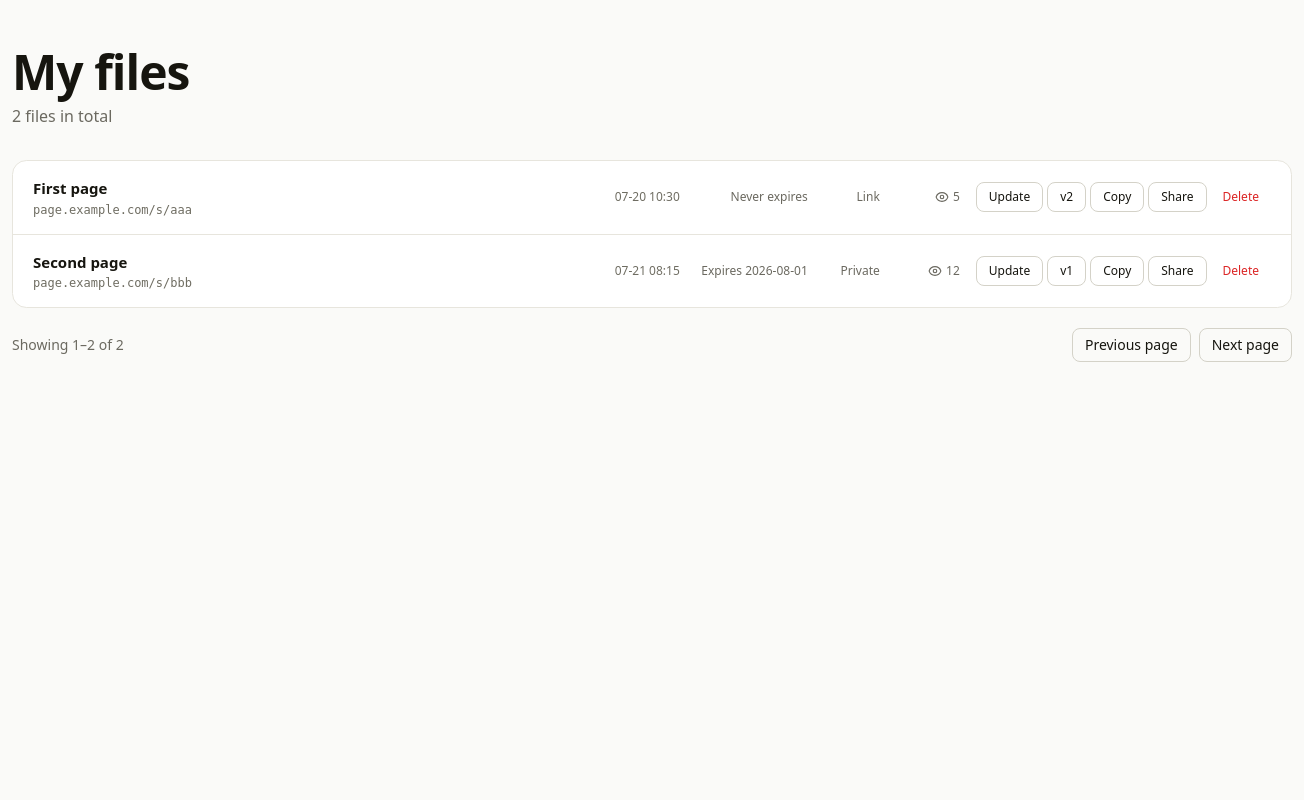
Test case: FilesPage › pin selector PATCHes shared_version and reflects the refetched server state
Expected: the text "First page" is shown, [33,178,107,198]
Click the button named "Version history: First page": (1067, 197) [1047,182,1086,212]
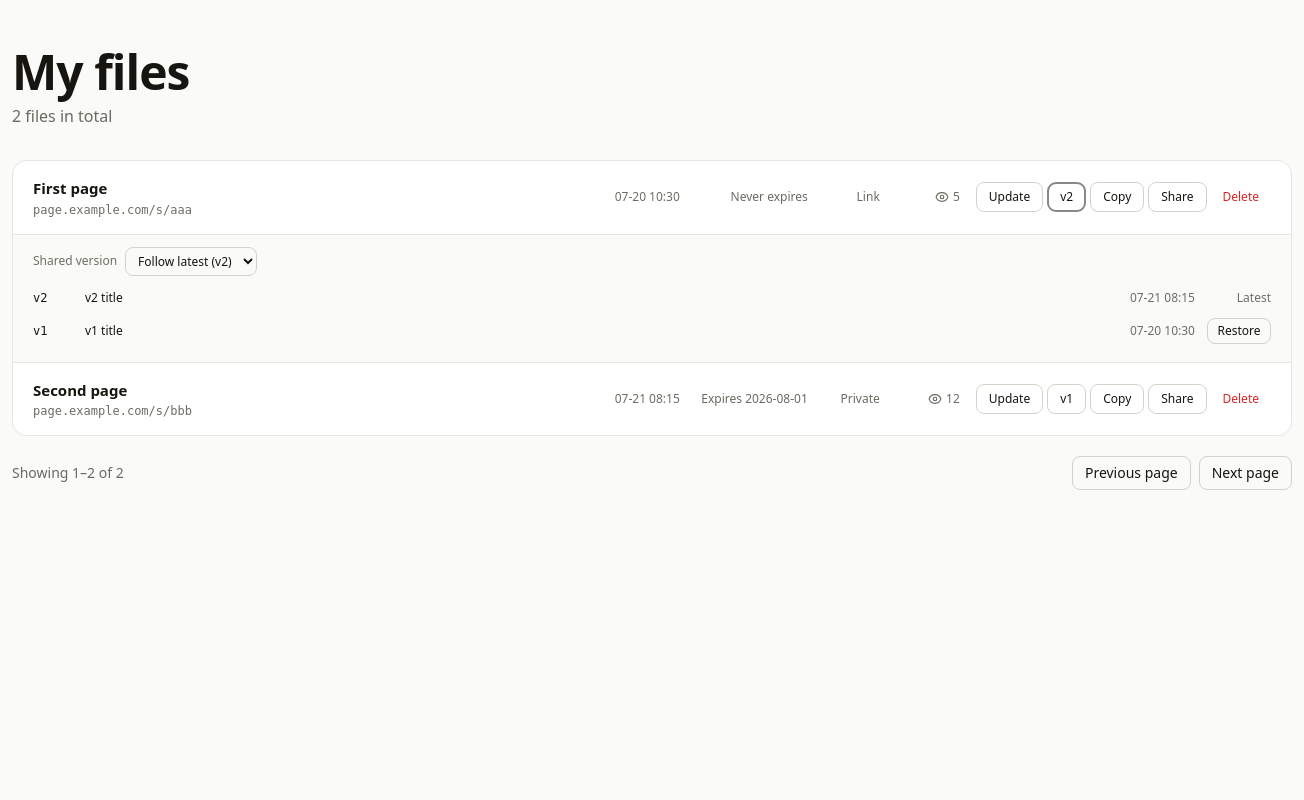
Now the text "v1 title" is shown, box [85,322,123,338]
Select "Pin to v1" in the dropdown named "Shared version": (191, 261) [125,246,257,276]
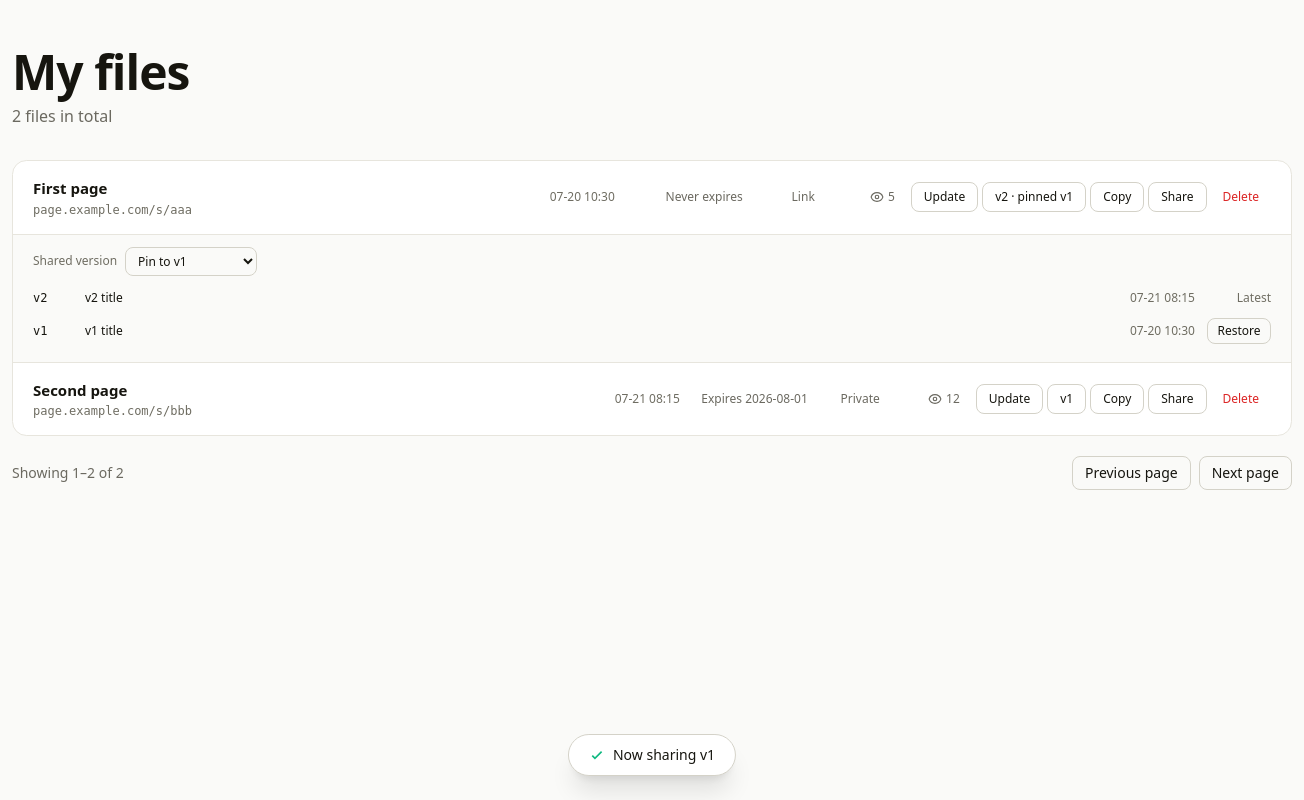
Now the button with aria-label "Version history: First page" shows "pinned v1", box [982,182,1086,212]
